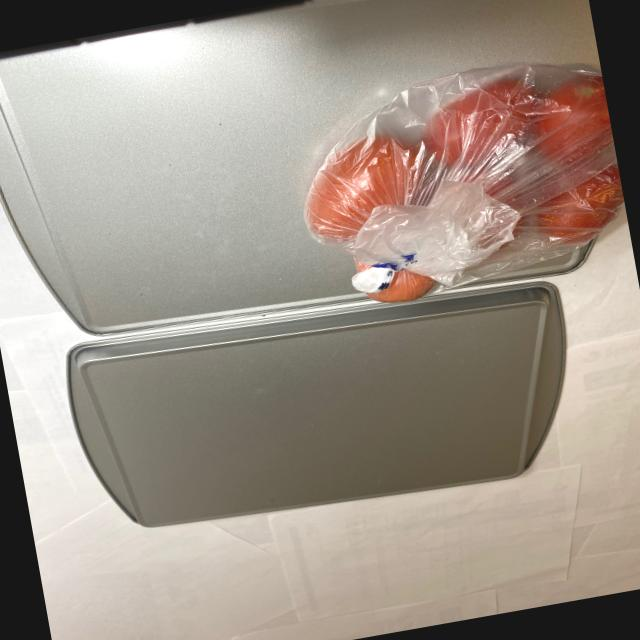tomato: (293, 51, 626, 316)
